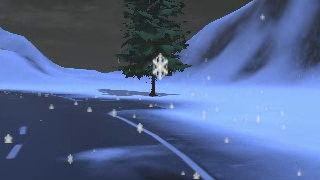Lane: (0, 90, 218, 179)
